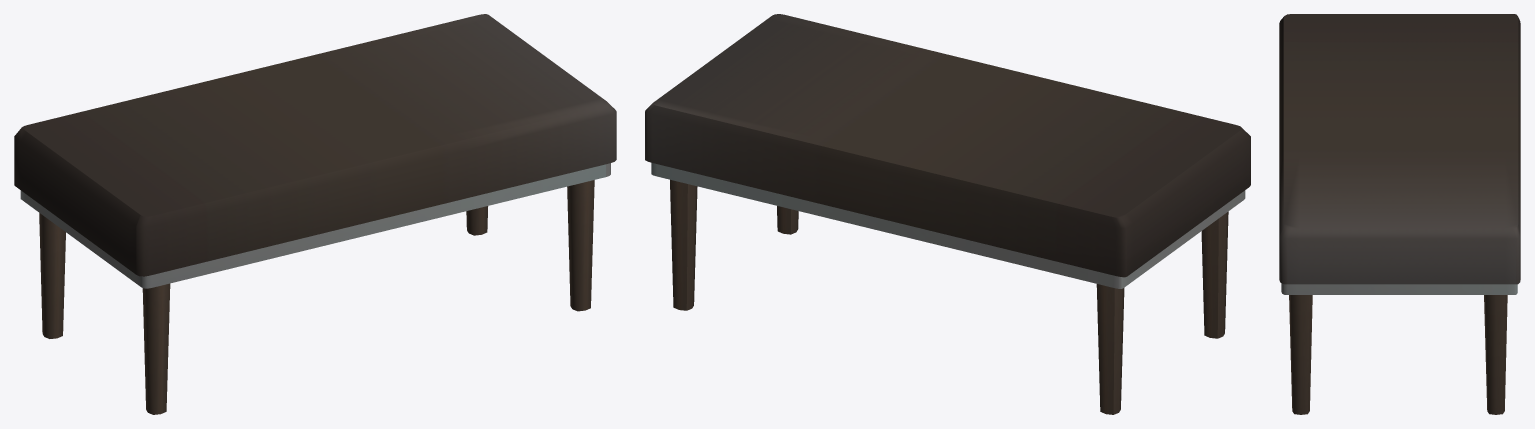
Rendered from prop_sofa02.fbx.
3 views of the same model, side by side, from view 1: azimuth 30°, elevation 25°; view 2: azimuth 150°, elevation 25°; view 3: azimuth 270°, elevation 25° (orthographic). The views are drawn at different scales.
Visible parts, largest first — view 1: prop_sofa02; view 2: prop_sofa02; view 3: prop_sofa02.
Part boxes in pixels (x1=…): prop_sofa02: x1=14, y1=14, x2=616, y2=414; prop_sofa02: x1=645, y1=14, x2=1250, y2=414; prop_sofa02: x1=1279, y1=14, x2=1520, y2=414.
Bounding box in the file's own units: 1.3 × 0.532 × 0.6034.
